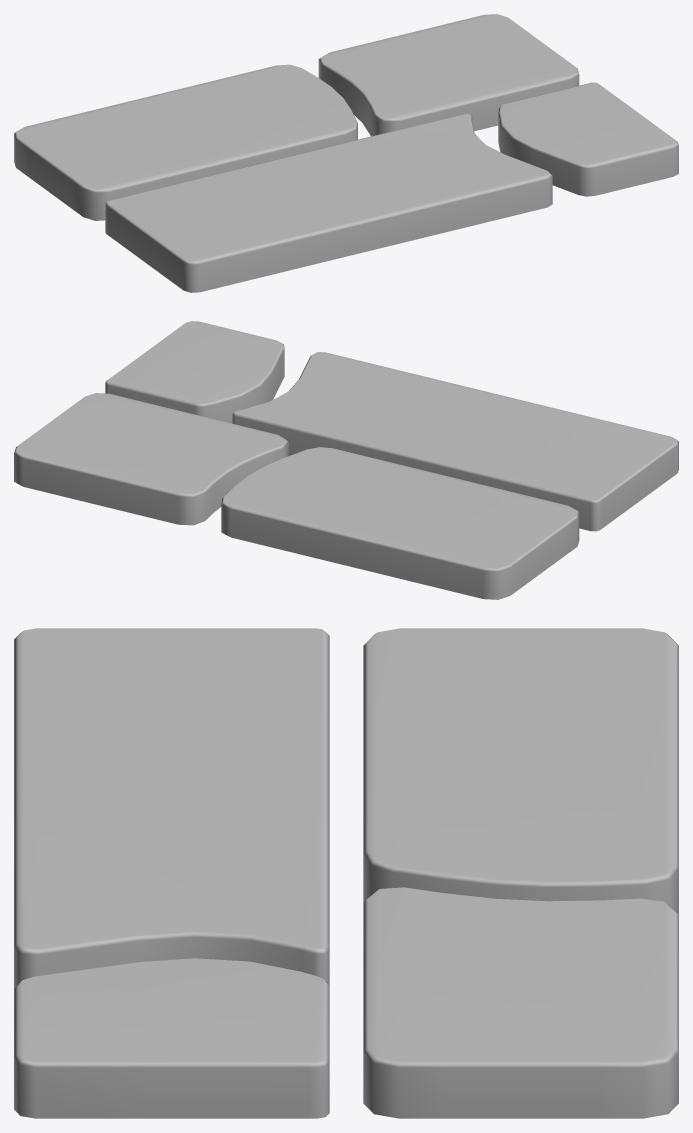
Rendered from Town_11_Path_2.glb.
3 views of the same model, one above another, from view 1: azimuth 30°, elevation 25°; view 2: azimuth 150°, elevation 25°; view 3: azimuth 270°, elevation 25° (orthographic). The views are drawn at different scales.
Visible parts, largest first — view 1: Town_11_Path_2; view 2: Town_11_Path_2; view 3: Town_11_Path_2.
Part boxes in pixels (box(x1,y1,x2,y2)): Town_11_Path_2: box(14, 14, 678, 292); Town_11_Path_2: box(14, 321, 678, 599); Town_11_Path_2: box(14, 628, 678, 1118).
Bounding box in the file's own units: 1.94 × 0.114 × 1.25.
Materials: 1 (1 with a texture image).
